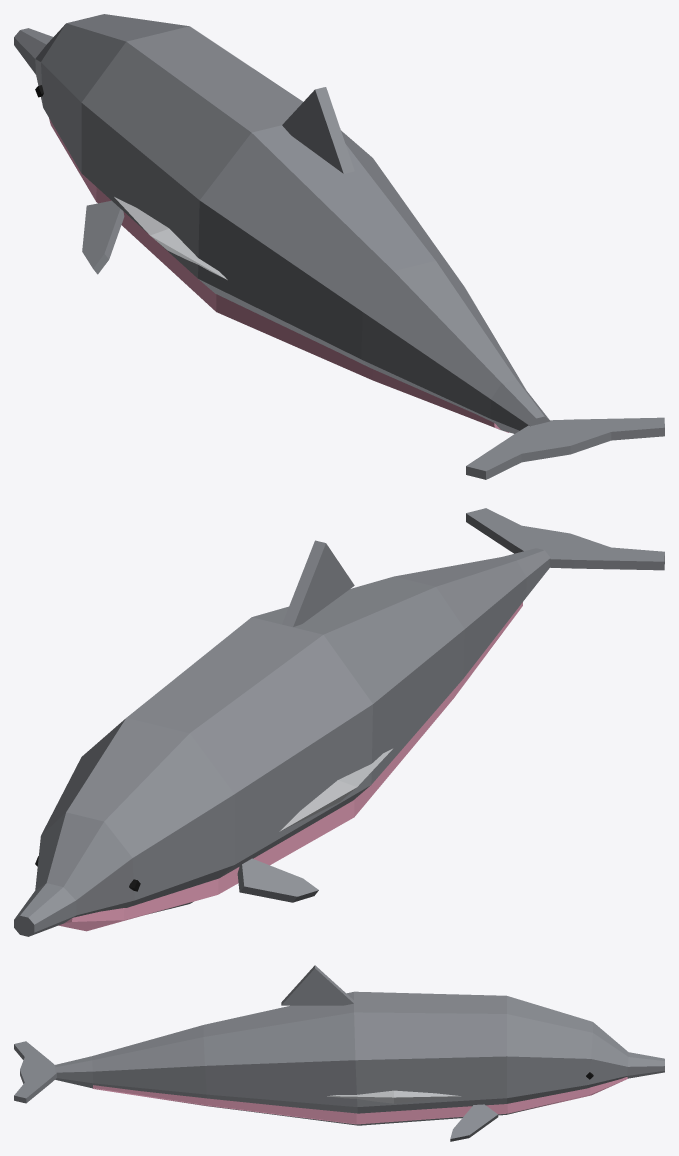
File: boto_cinza.glb
3 views of the same model, one above another, from view 1: azimuth 30°, elevation 25°; view 2: azimuth 150°, elevation 25°; view 3: azimuth 270°, elevation 25° (orthographic). The views are drawn at different scales.
Parts seen in each view (by area): view 1: corpo; view 2: corpo; view 3: corpo.
Boxes of the visible parts, left/top/right/bottom form: corpo: left=14, top=14, right=664, bottom=479; corpo: left=14, top=508, right=664, bottom=936; corpo: left=14, top=965, right=664, bottom=1141.
Bounding box in the file's own units: 0.2367 × 0.2684 × 1.
